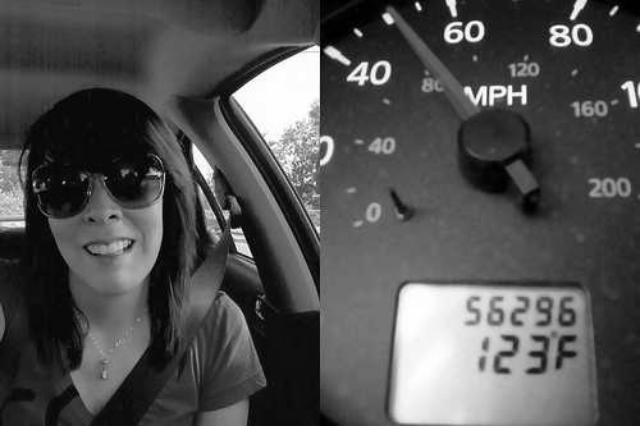Seatbelt: (86, 180, 240, 426)
